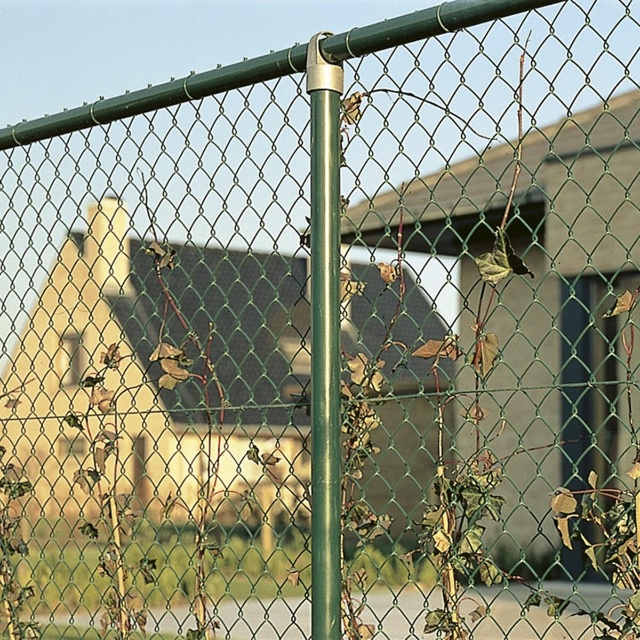obstacle: (48, 63, 640, 638)
